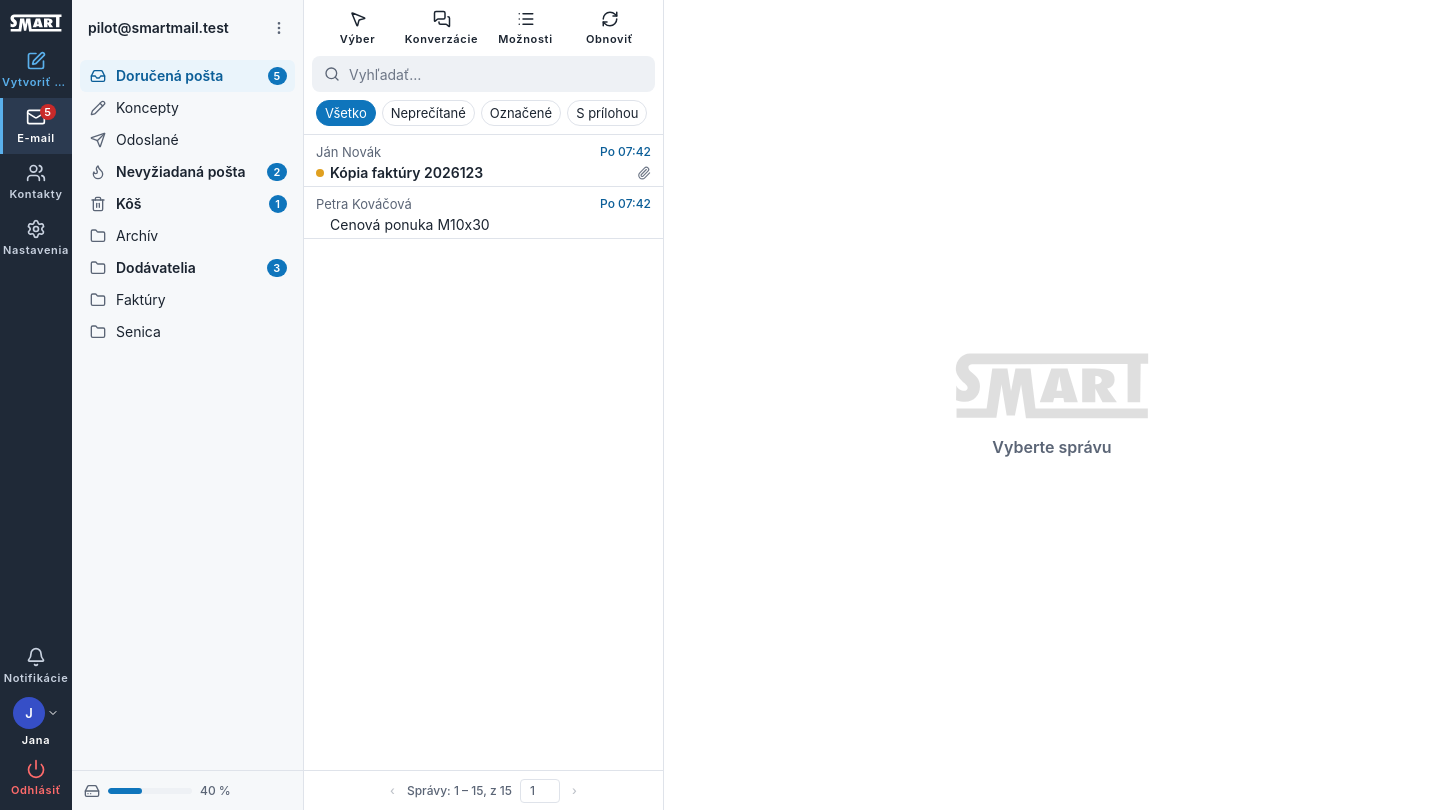
it: W2 shell and folder column (1c) › G3 Vyprázdniť Kôš asks first (G5 confirm), then empties and shows a toast
Right-click the link with aria-label "Kôš, neprečítané: 1": (98, 204) [90,195,287,213]
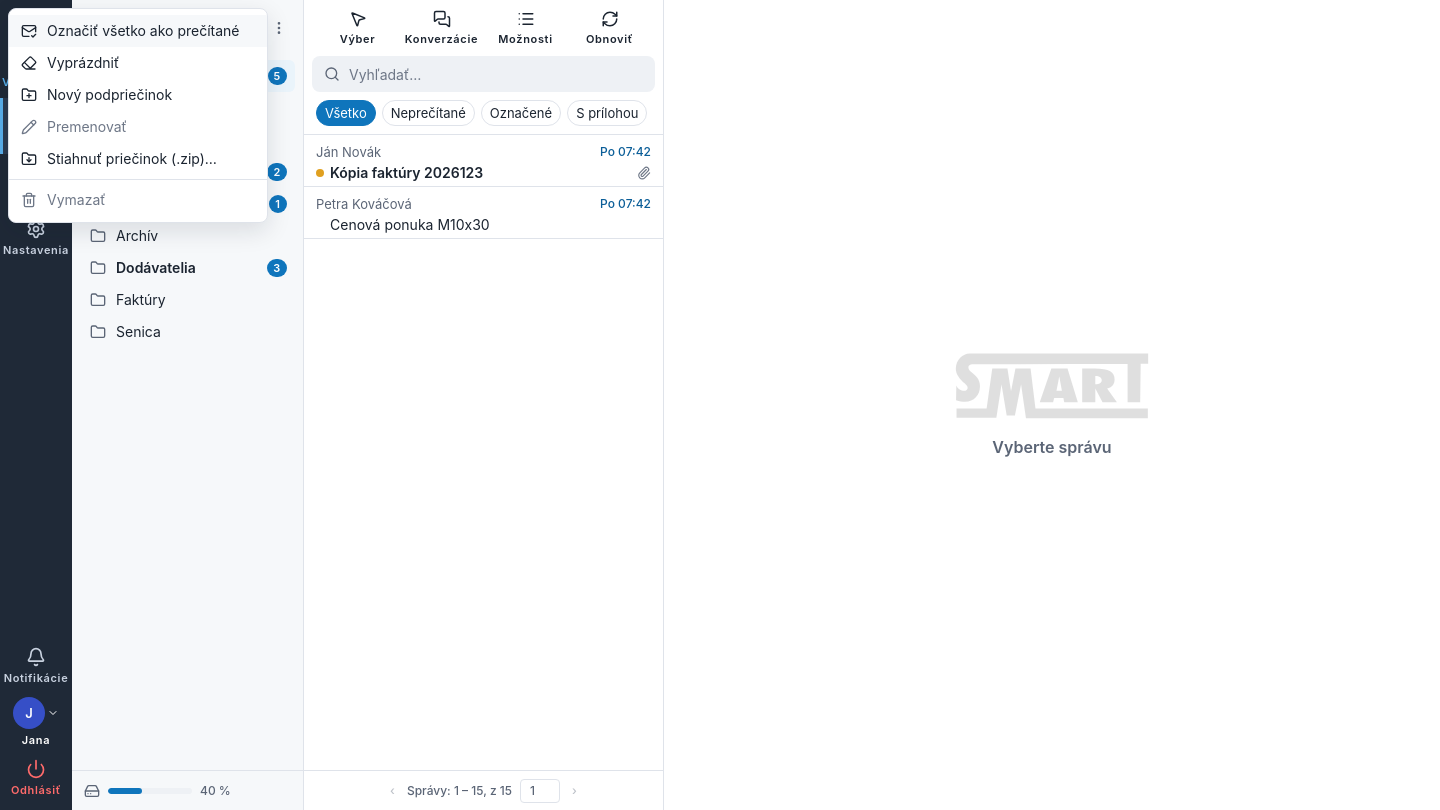
Click the menu item "Vyprázdniť": click(138, 63) [9,47,267,79]
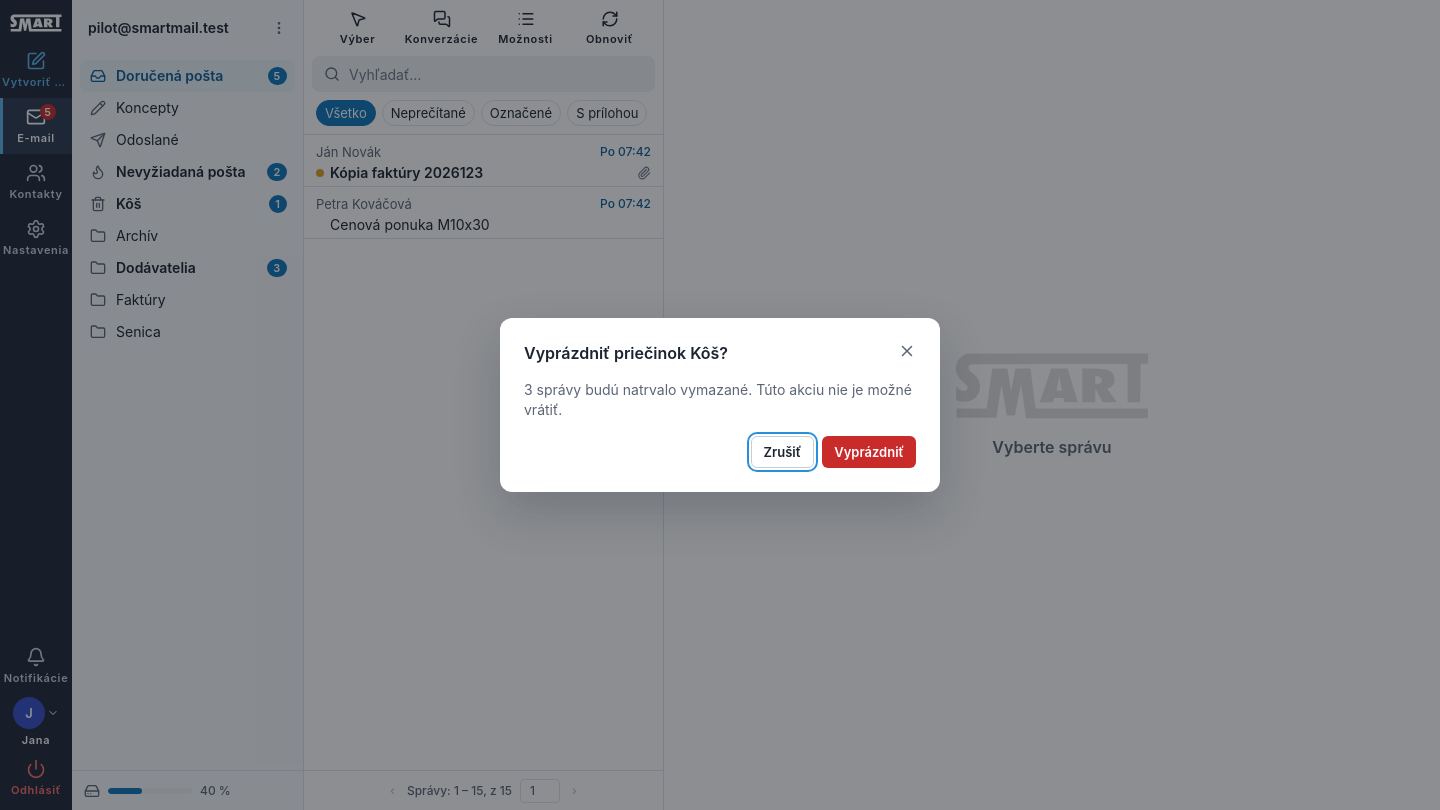
Expected: the dialog "Vyprázdniť priečinok Kôš?" shows "3 správy budú natrvalo vymazané.", [524,381,912,418]
Click the button "Vyprázdniť": click(869, 452) [822,436,916,468]
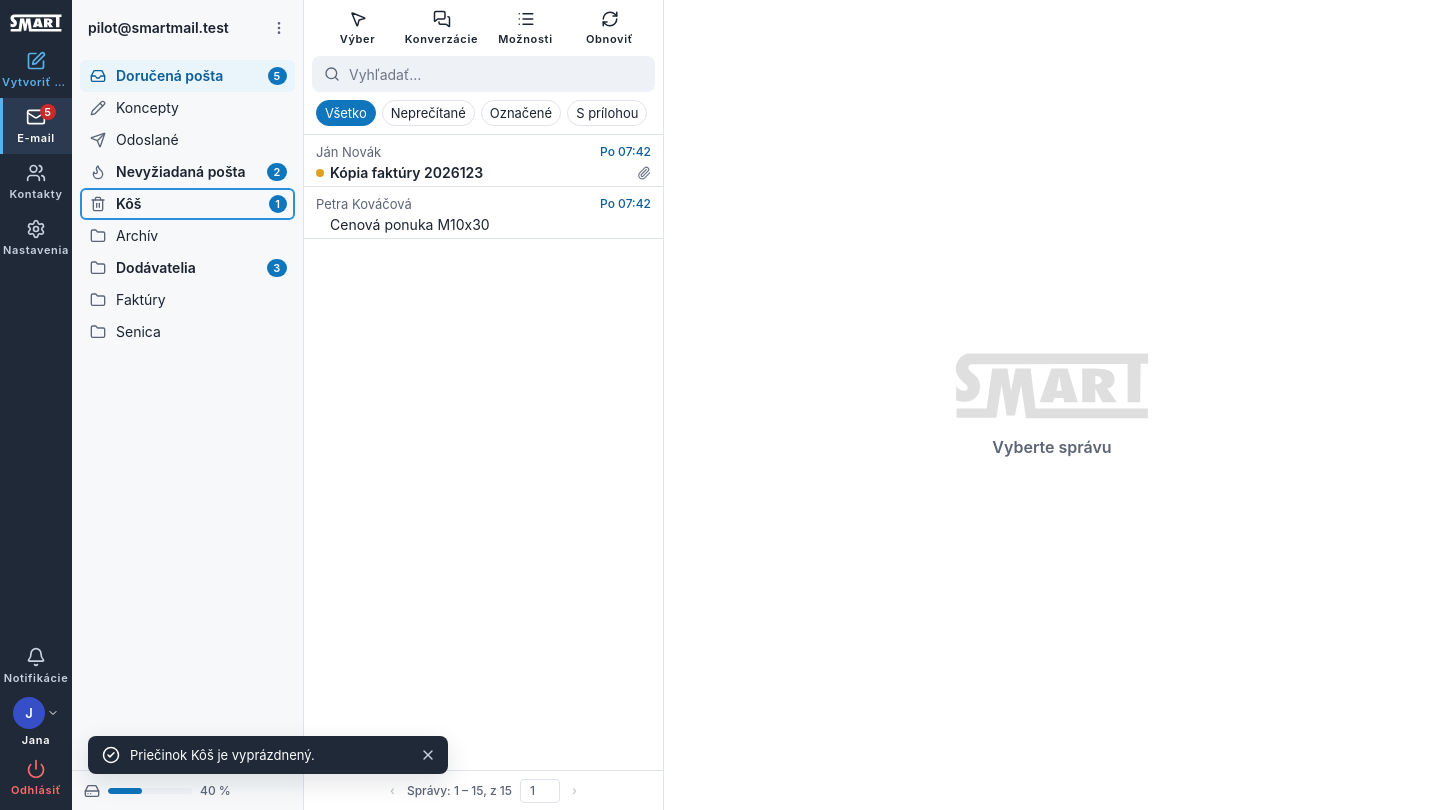
Expected: the text "Priečinok Kôš je vyprázdnený." is shown, [130,747,315,763]
Expected: the dialog is gone
